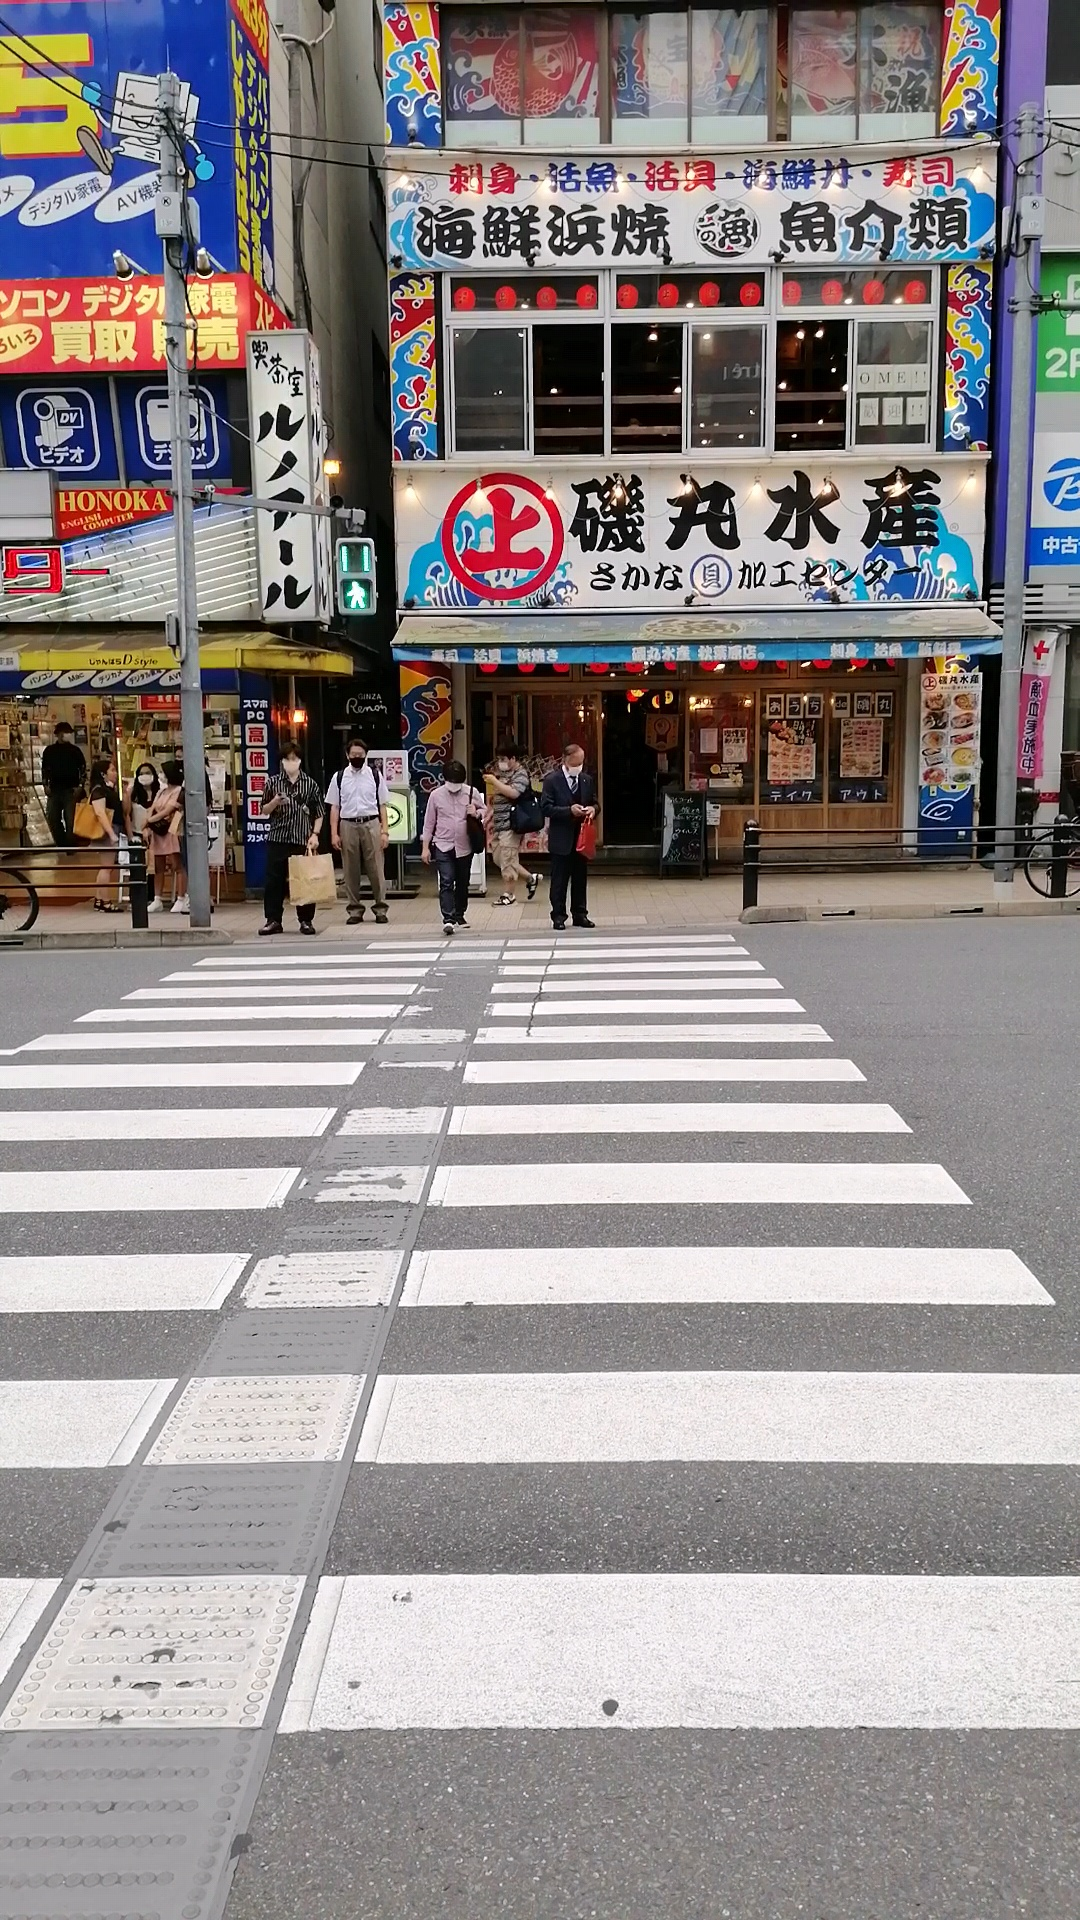green: (334, 538, 378, 616)
